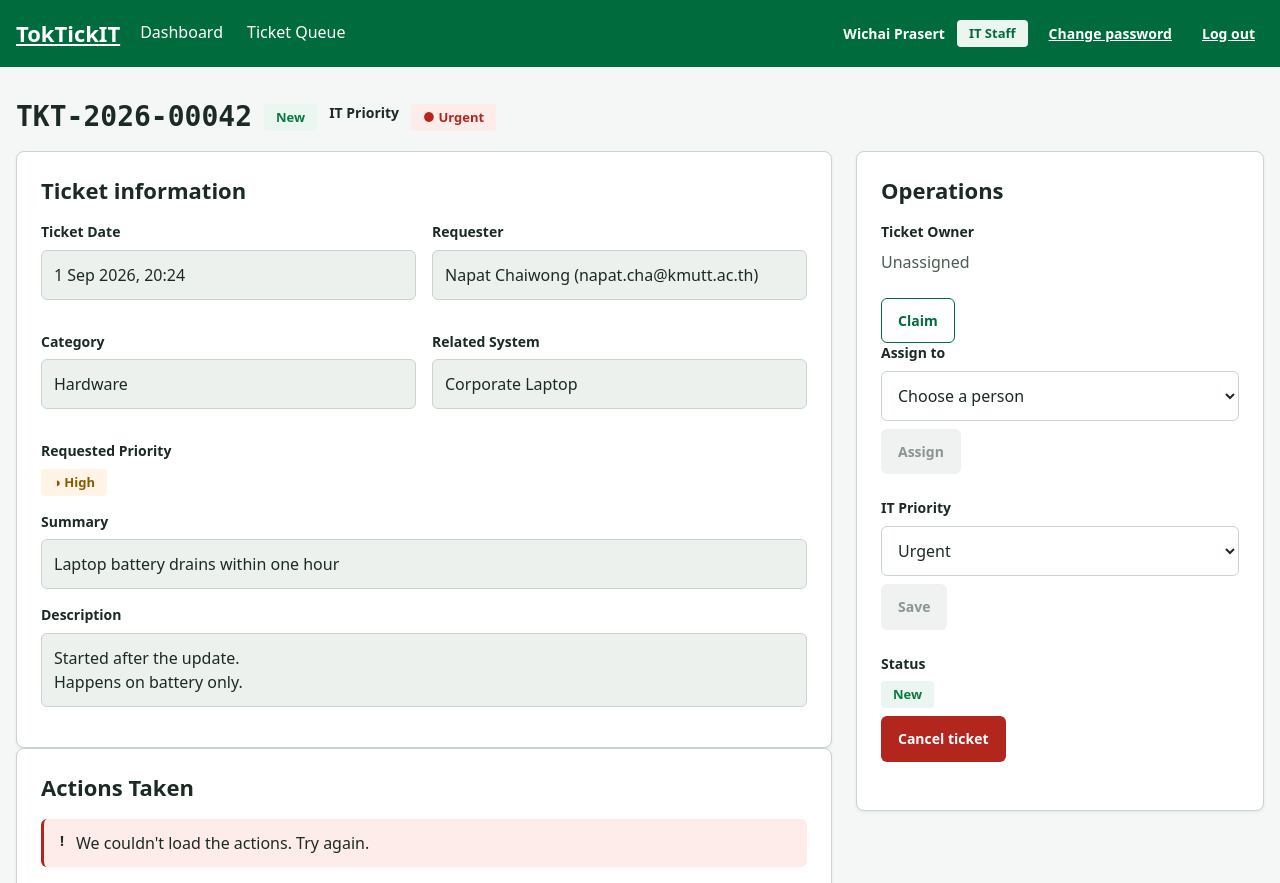
Test case: UI-28 (AC-35, AC-37) - owner controls › re-fetches the detail after a successful claim and shows the server's owner
The width and height of the screenshot is (1280, 883).
Expected: the element with test id "operations-card" is shown, [856,151,1264,811]
Step 1. Click the button with test id "btn-claim" → x=918, y=320, box [881,298,955,343]
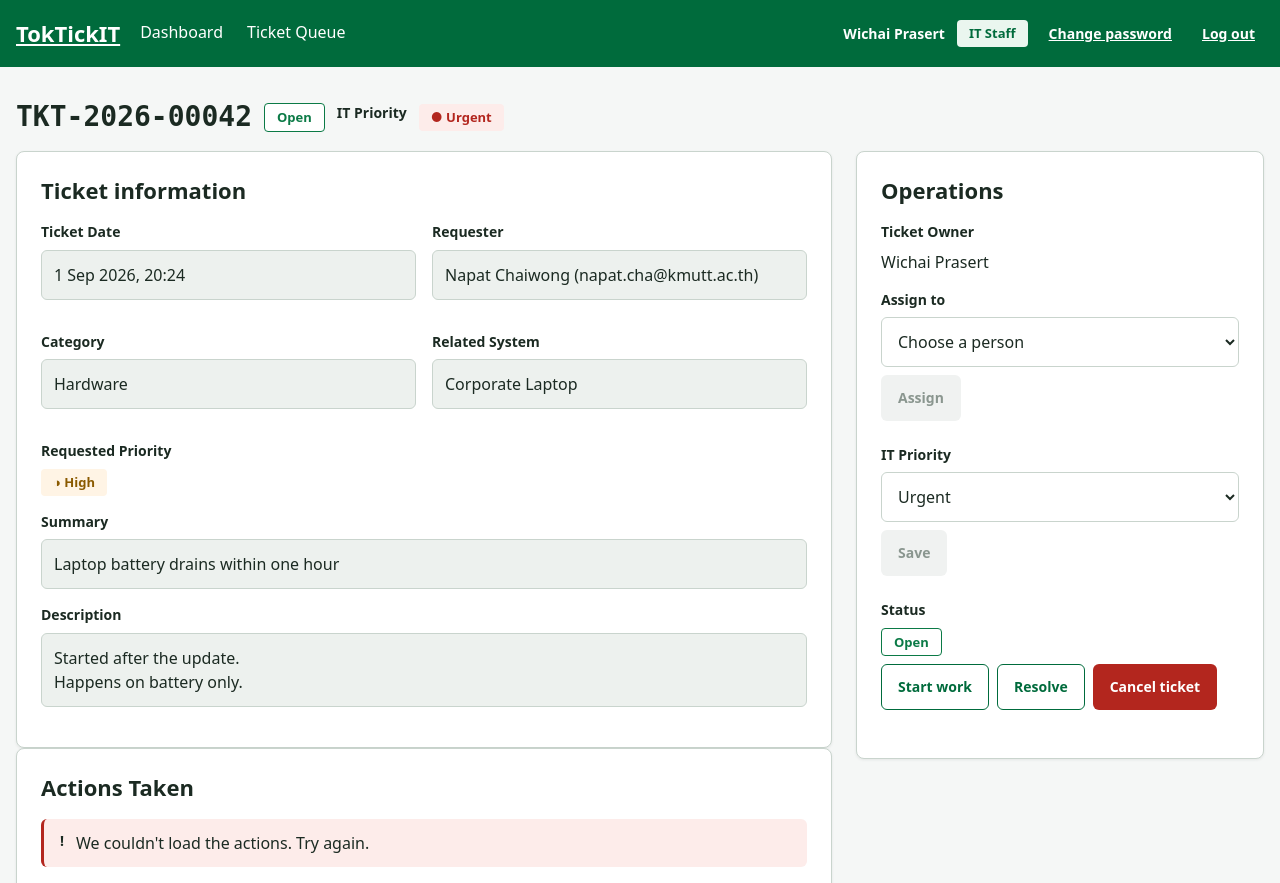
Expected: the button with test id "btn-claim" is gone
Expected: the text with test id "ticket-owner" reads "Wichai Prasert", [881,251,989,273]
